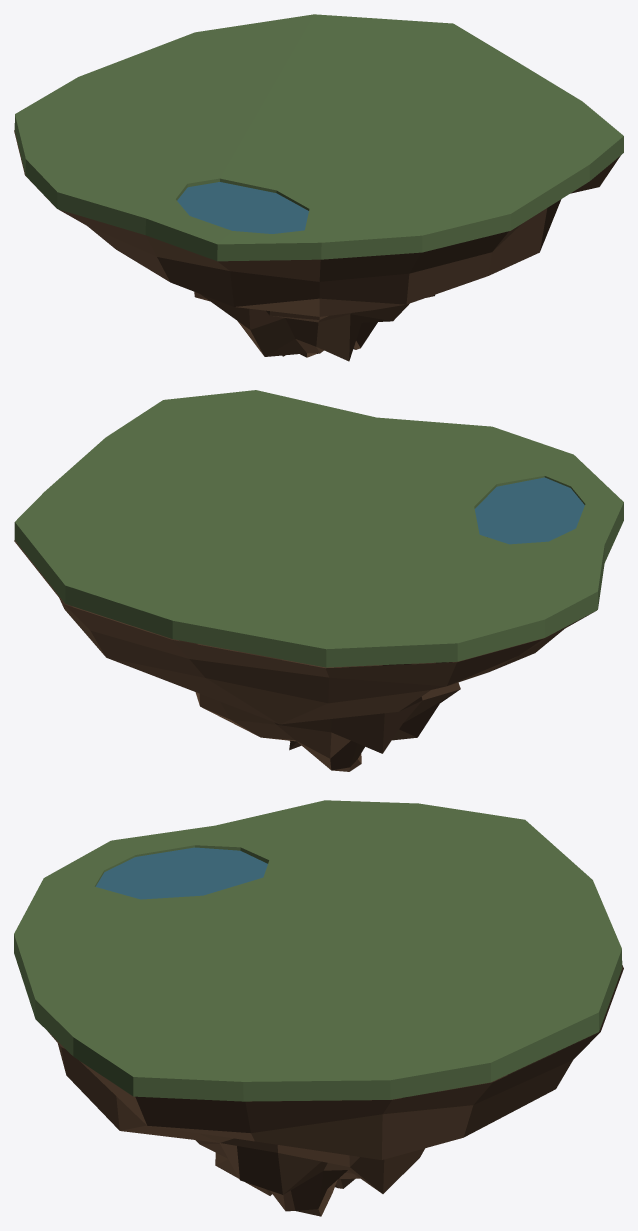
File: Isola.fbx
The picture shows the model from 3 angles, top to bottom: view 1: azimuth 30°, elevation 25°; view 2: azimuth 150°, elevation 25°; view 3: azimuth 270°, elevation 25°; orthographic projection. The views are drawn at different scales.
Parts seen in each view (by area): view 1: Giardino, sottosoulo, lago; view 2: Giardino, sottosoulo, lago; view 3: Giardino, sottosoulo, lago.
Boxes of the visible parts, x1,y1,x2,y2 form: Giardino: (14,14,623,261); sottosoulo: (14,130,620,361); lago: (177,182,308,233); Giardino: (14,390,623,667); sottosoulo: (14,540,596,771); lago: (474,477,584,544); Giardino: (14,800,622,1101); sottosoulo: (48,965,623,1216); lago: (95,847,267,899).
Bounding box in the file's own units: 14584 × 6378 × 13518.
